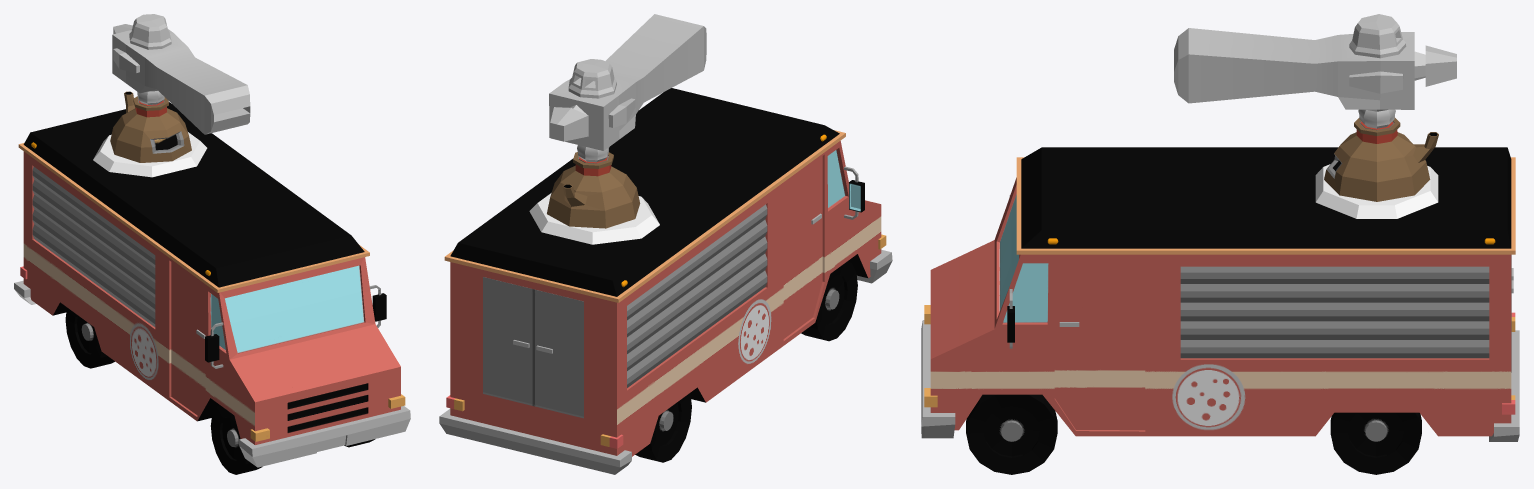
File: food_truck_with_cannon.fbx
3 views of the same model, side by side, from view 1: azimuth 30°, elevation 25°; view 2: azimuth 150°, elevation 25°; view 3: azimuth 270°, elevation 25° (orthographic). The views are drawn at different scales.
Parts seen in each view (by area): view 1: FoodTruck, Cannon.001, Cannon_Base, Right_Front_Wheel, Rear_Back_Wheel; view 2: FoodTruck, Cannon.001, Rear_Double_Doors, Cannon_Base, Right_Front_Wheel, Rear_Back_Wheel; view 3: FoodTruck, Cannon.001, Cannon_Base, Left_Front_Wheel, Left_Back_Wheel, Cannon.
Boxes of the visible parts, box(x1,y1,x2,y2) form: FoodTruck: box(14, 102, 410, 467); Cannon.001: box(112, 14, 250, 134); Cannon_Base: box(110, 91, 191, 162); Right_Front_Wheel: box(210, 405, 262, 474); Rear_Back_Wheel: box(65, 307, 114, 368); FoodTruck: box(439, 88, 892, 474); Cannon.001: box(549, 14, 706, 150); Rear_Double_Doors: box(483, 277, 583, 418); Cannon_Base: box(547, 152, 640, 228); Right_Front_Wheel: box(801, 261, 857, 341); Rear_Back_Wheel: box(635, 393, 691, 462); FoodTruck: box(921, 147, 1519, 441); Cannon.001: box(1174, 14, 1456, 109); Cannon_Base: box(1324, 117, 1438, 201); Left_Front_Wheel: box(966, 394, 1057, 474); Left_Back_Wheel: box(1330, 412, 1421, 474); Cannon: box(1358, 109, 1395, 128).
Size of the model in its own units: 95.73 by 169 by 222.
